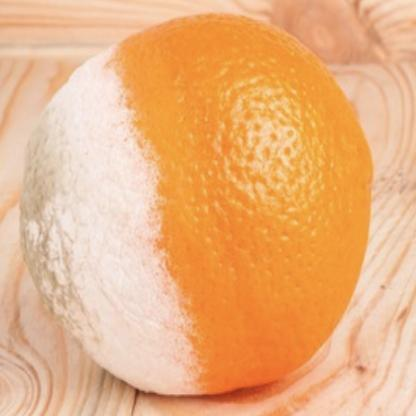rotten: (23, 12, 375, 399)
